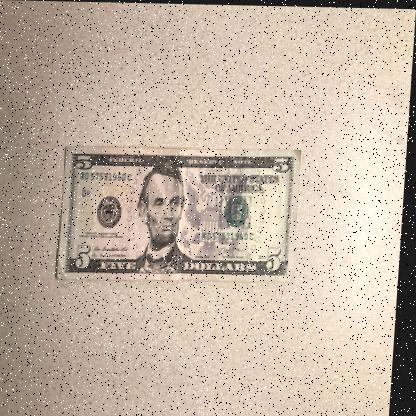five-front: (59, 144, 305, 284)
